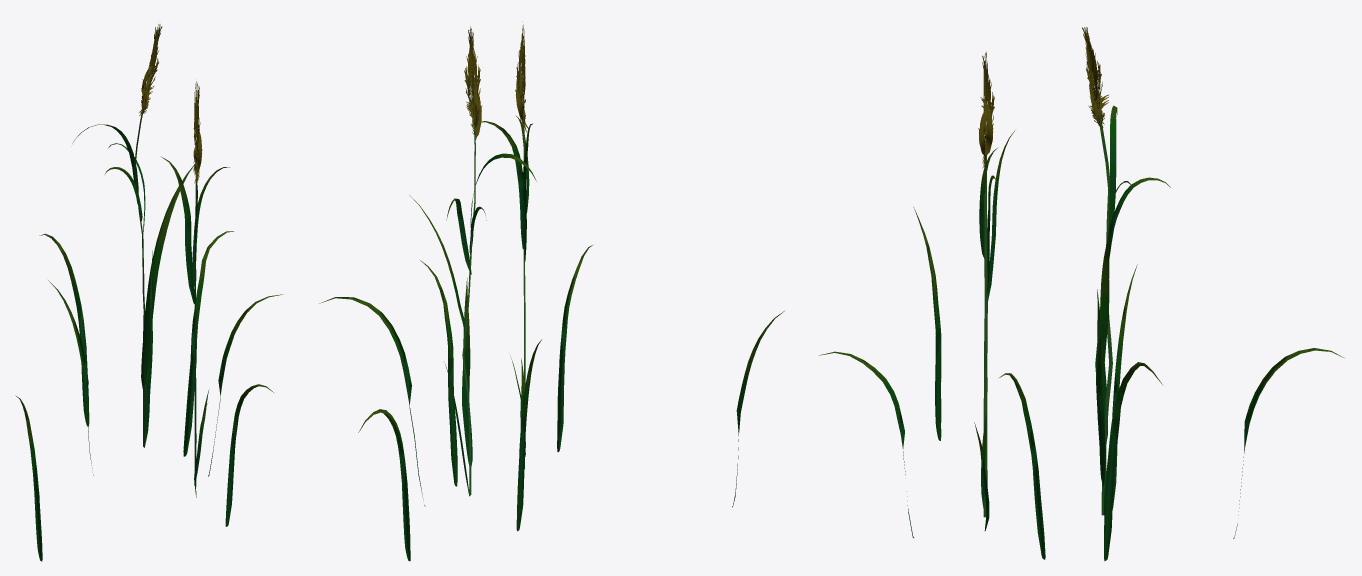
The picture shows the model from 3 angles, left to right: view 1: azimuth 30°, elevation 25°; view 2: azimuth 150°, elevation 25°; view 3: azimuth 270°, elevation 25°; orthographic projection. The views are drawn at different scales.
Parts seen in each view (by area): view 1: SM_BM_GrassLongSeeded_01_LOD0; view 2: SM_BM_GrassLongSeeded_01_LOD0; view 3: SM_BM_GrassLongSeeded_01_LOD0.
Boxes of the visible parts, x1,y1,x2,y2 form: SM_BM_GrassLongSeeded_01_LOD0: [15, 24, 283, 561]; SM_BM_GrassLongSeeded_01_LOD0: [319, 21, 784, 561]; SM_BM_GrassLongSeeded_01_LOD0: [819, 27, 1343, 561].
Size of the model in its own units: 1 by 1.33 by 1.21.
1 material, 1 textured.
